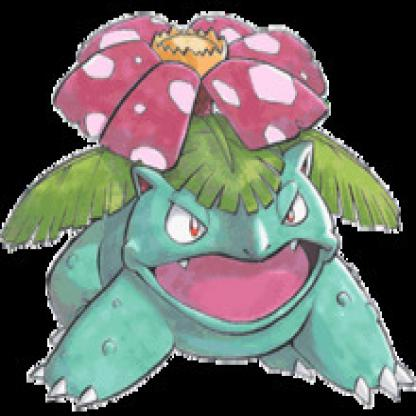Venusaur: (1, 1, 415, 415)
